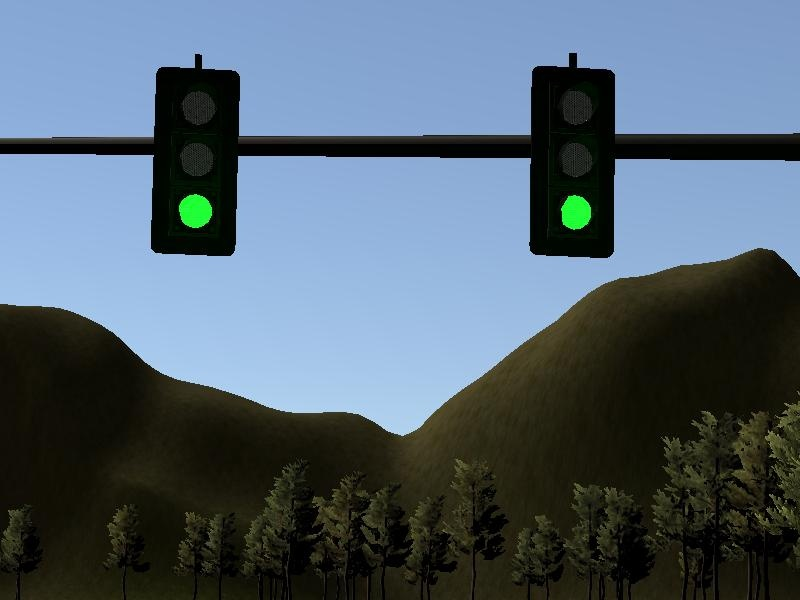traffic_light_green: (1, 53, 800, 260)
